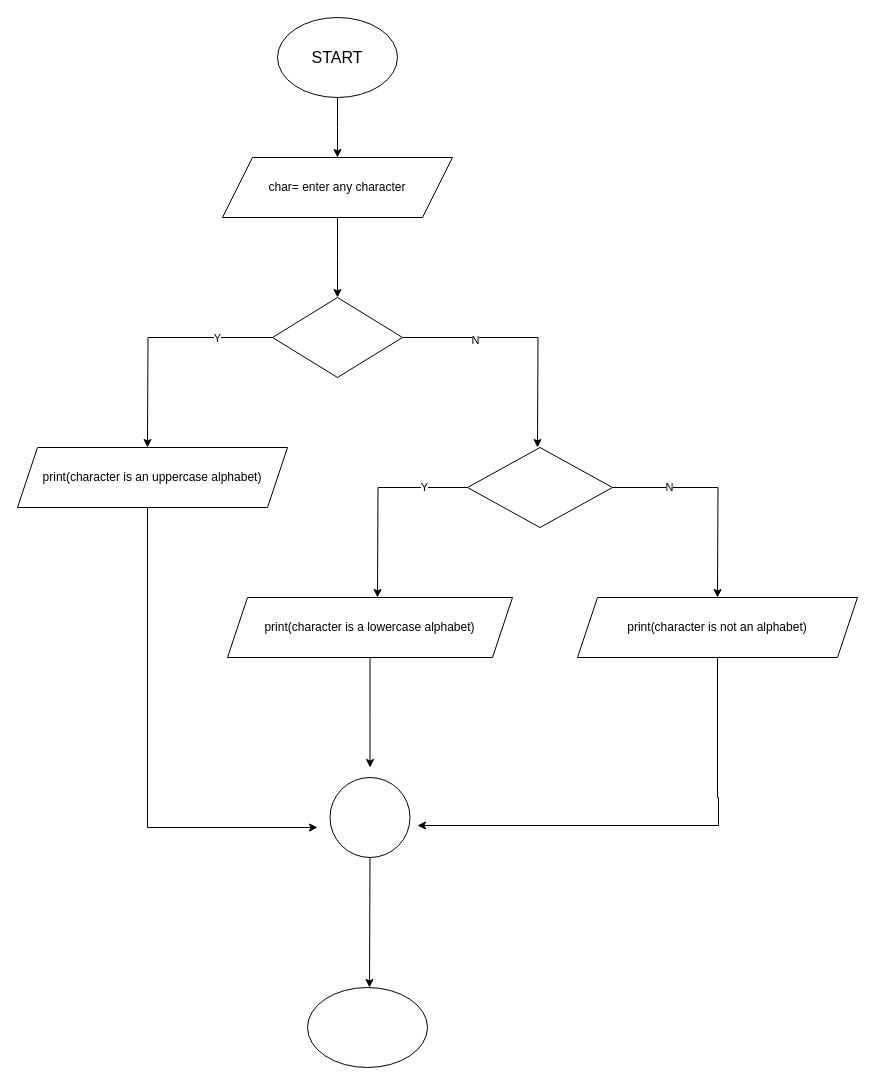
The diagram is 875 pixels wide and 1085 high, and some of its shapes have lost their labels. The shapes that lost their labels are listed below. From the top down, each one's centre as x and y in pixels, then its label:
(x=337, y=337): if char. isupper()
(x=539, y=487): if char.islower()
(x=367, y=1027): STOP
